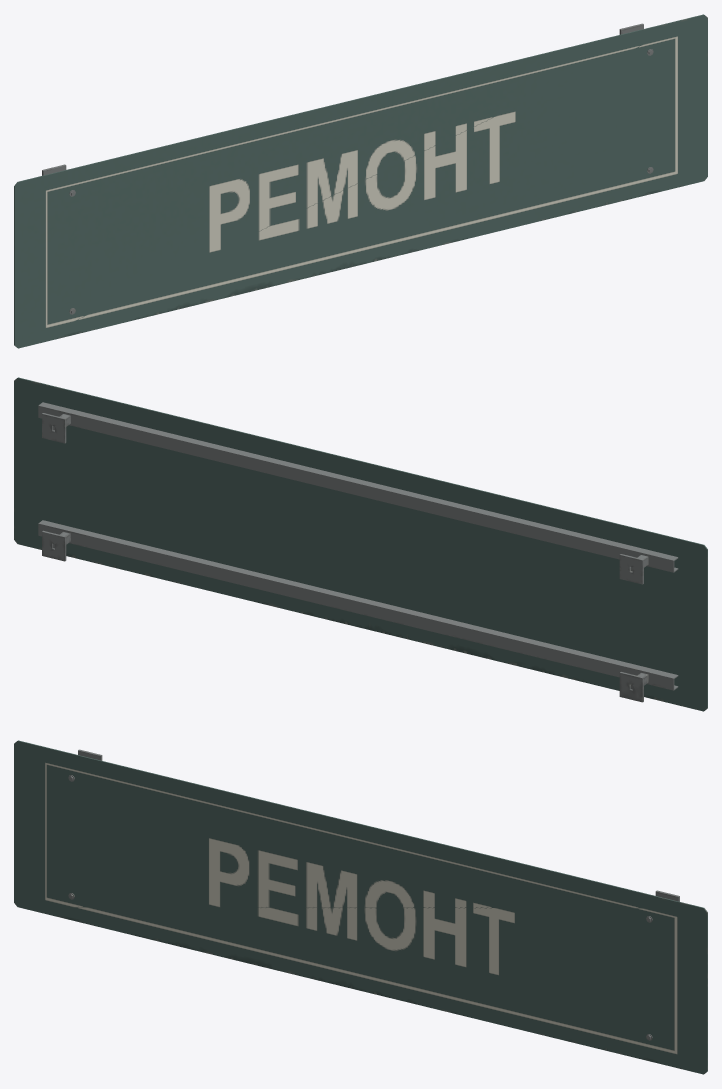
File: shop_cyrillic_signs_services.glb
3 renders of one model, top to bottom at view 1: azimuth 30°, elevation 25°; view 2: azimuth 150°, elevation 25°; view 3: azimuth 330°, elevation 25°, orthographic.
Parts seen in each view (by area): view 1: ShopSignServices; view 2: ShopSignServices; view 3: ShopSignServices.
Boxes of the visible parts, <box> form: ShopSignServices: <box>14,14,707,348</box>; ShopSignServices: <box>14,377,707,711</box>; ShopSignServices: <box>14,740,707,1074</box>.
Size of the model in its own units: 2.4 by 0.55 by 0.12.
Materials: 1 (1 with a texture image).
